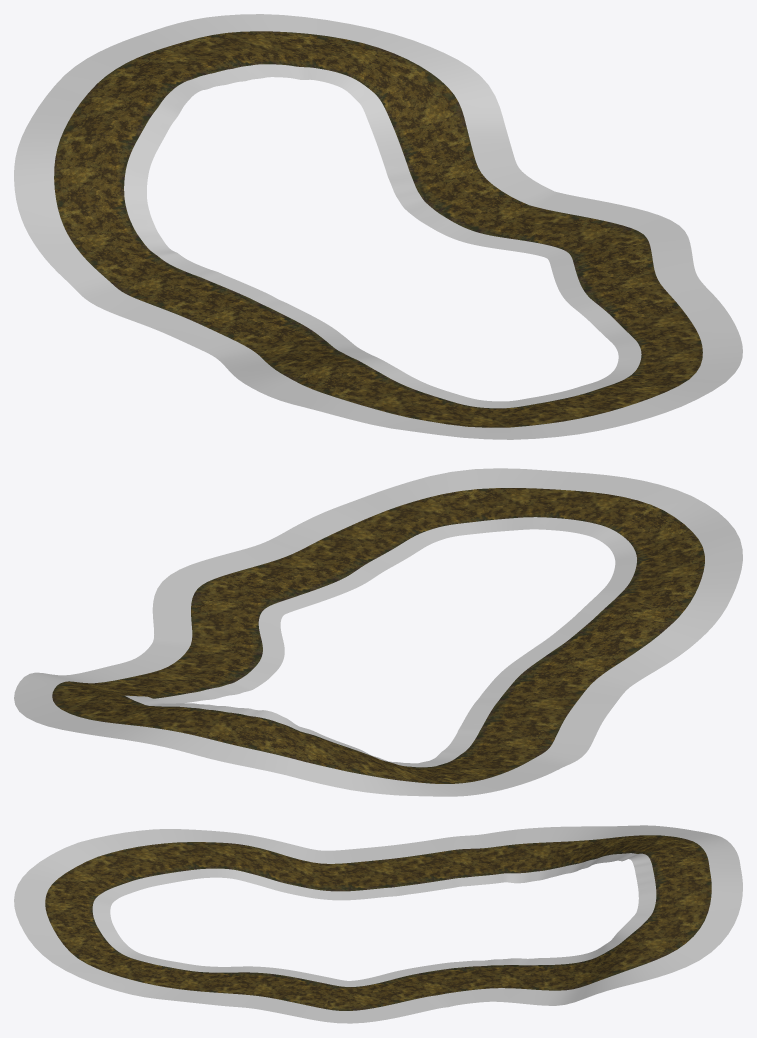
The model's file is roaduvtexture.fbx.
The picture shows the model from 3 angles, top to bottom: view 1: azimuth 30°, elevation 25°; view 2: azimuth 150°, elevation 25°; view 3: azimuth 270°, elevation 25°; orthographic projection. The views are drawn at different scales.
Visible parts, largest first — view 1: pCube8; view 2: pCube8; view 3: pCube8.
Boxes of the visible parts, x1,y1,x2,y2 form: pCube8: [14, 14, 742, 439]; pCube8: [14, 468, 742, 796]; pCube8: [14, 825, 742, 1023].
Bounding box in the file's own units: 5896 × 939 × 9343.
